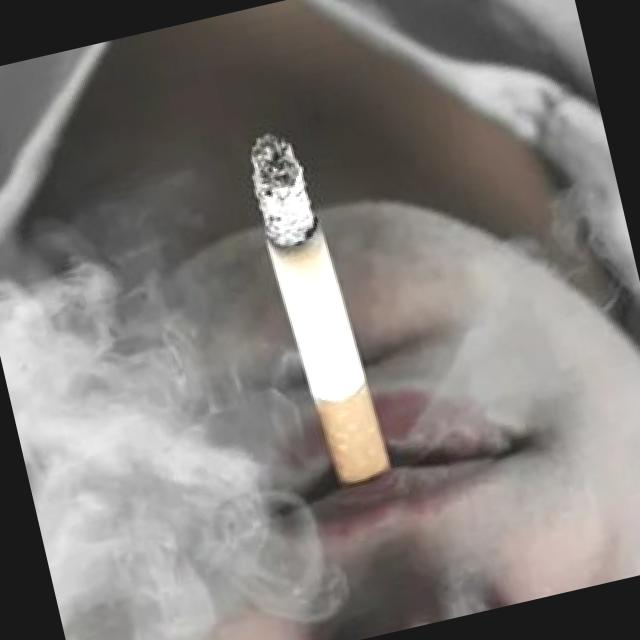cigarette: (230, 108, 408, 501)
